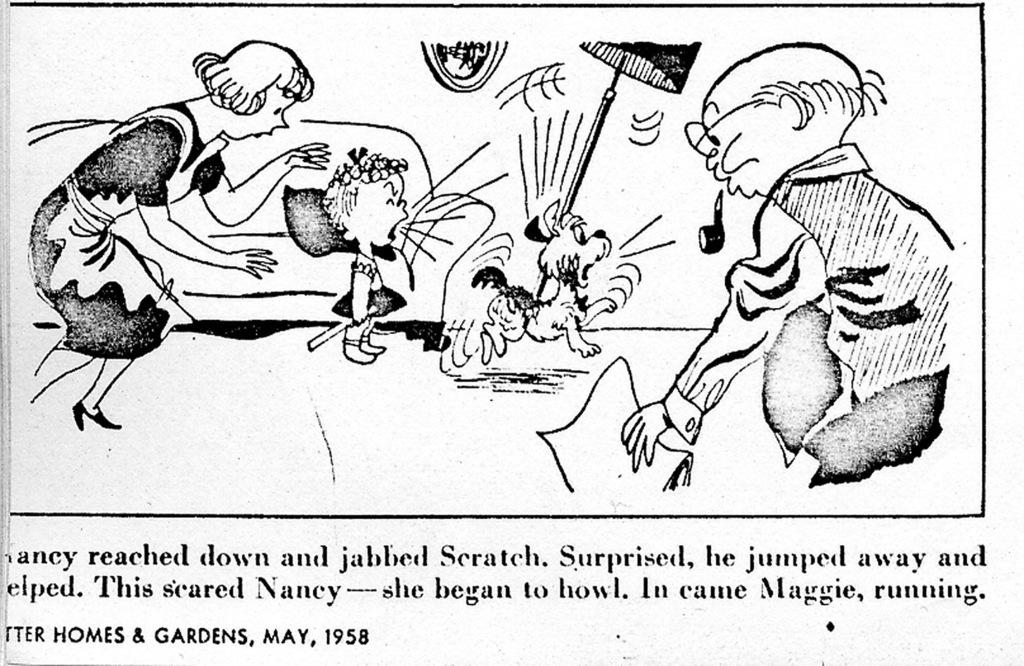Sem Máscara: (684, 112, 776, 201), (219, 84, 299, 139), (348, 168, 406, 238)
